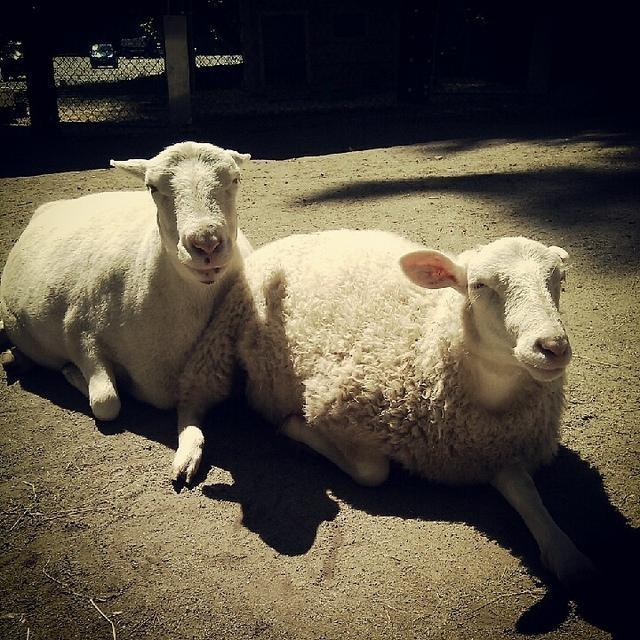car: (1, 43, 25, 81), (121, 37, 161, 59), (89, 42, 118, 70)
